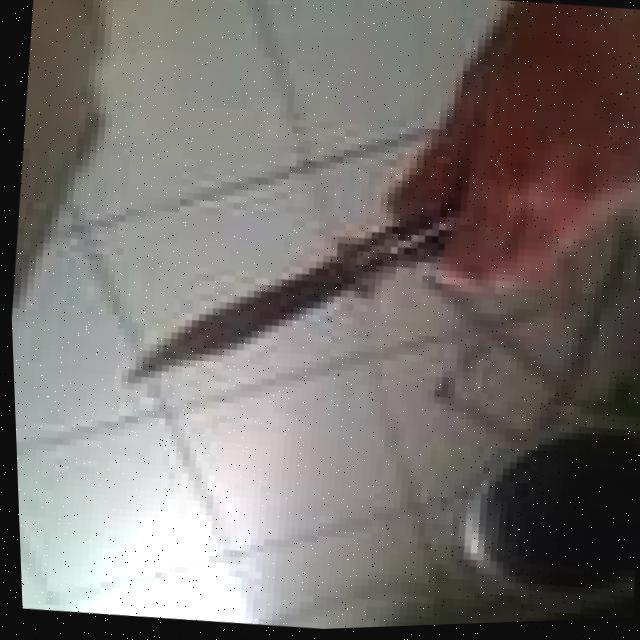knife: (111, 193, 444, 419)
